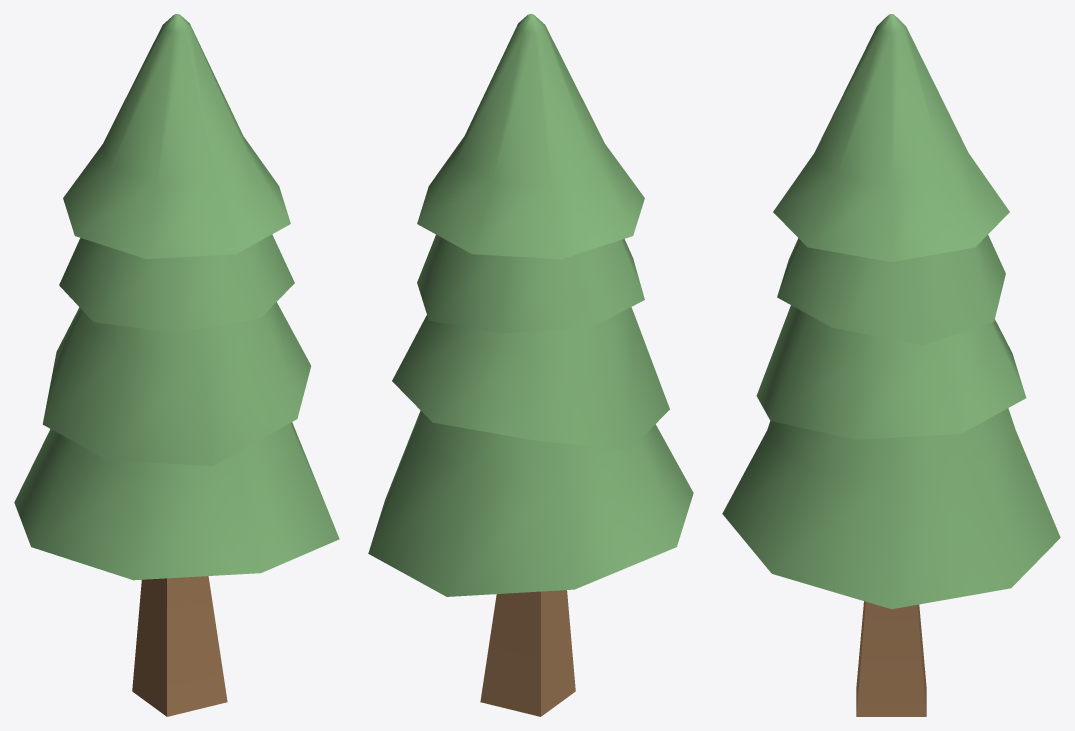
File: Arvore1.fbx
The picture shows the model from 3 angles, left to right: view 1: azimuth 30°, elevation 25°; view 2: azimuth 150°, elevation 25°; view 3: azimuth 270°, elevation 25°; orthographic projection.
Visible parts, largest first — view 1: pCylinder1, pCylinder2, pCylinder4, pCylinder3, Tronco; view 2: pCylinder1, pCylinder4, pCylinder2, pCylinder3, Tronco; view 3: pCylinder1, pCylinder4, pCylinder2, pCylinder3, Tronco.
Part boxes in pixels (box(x1,y1,x2,y2)): pCylinder1: box(14, 422, 339, 580); pCylinder2: box(42, 302, 311, 465); pCylinder4: box(63, 14, 290, 259); pCylinder3: box(59, 234, 294, 332); Tronco: box(132, 576, 227, 716); pCylinder1: box(368, 410, 693, 596); pCylinder4: box(417, 14, 644, 259); pCylinder2: box(392, 307, 669, 450); pCylinder3: box(417, 234, 644, 333); Tronco: box(480, 590, 575, 716); pCylinder1: box(722, 408, 1060, 609); pCylinder4: box(773, 14, 1009, 261); pCylinder2: box(756, 305, 1026, 439); pCylinder3: box(777, 235, 1005, 345); Tronco: box(856, 601, 926, 716).
Size of the model in its own units: 6.58 by 14.73 by 6.58.
